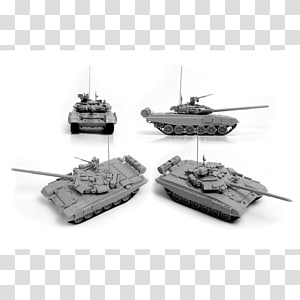Battle Tank: (9, 150, 150, 226), (153, 152, 294, 225), (141, 96, 272, 140)
